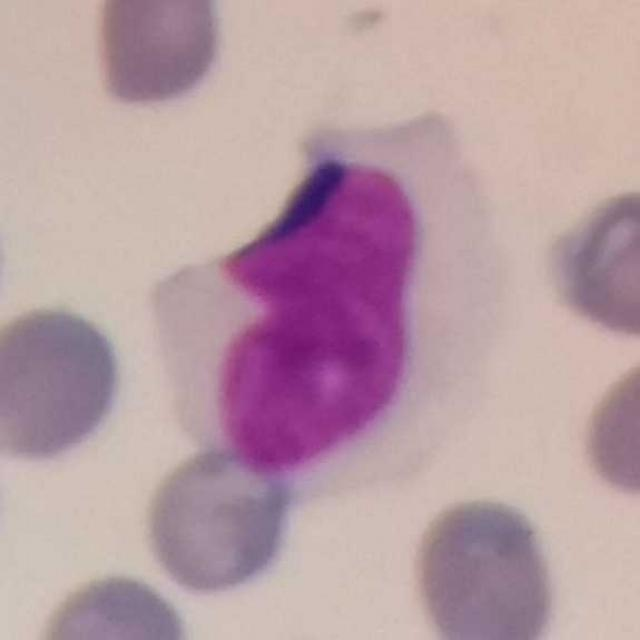Monocyte: (142, 96, 522, 498)
RBC: (137, 439, 302, 601), (403, 489, 565, 640), (0, 298, 132, 471), (84, 0, 235, 118), (535, 179, 640, 346), (28, 566, 196, 640), (575, 340, 640, 507)
